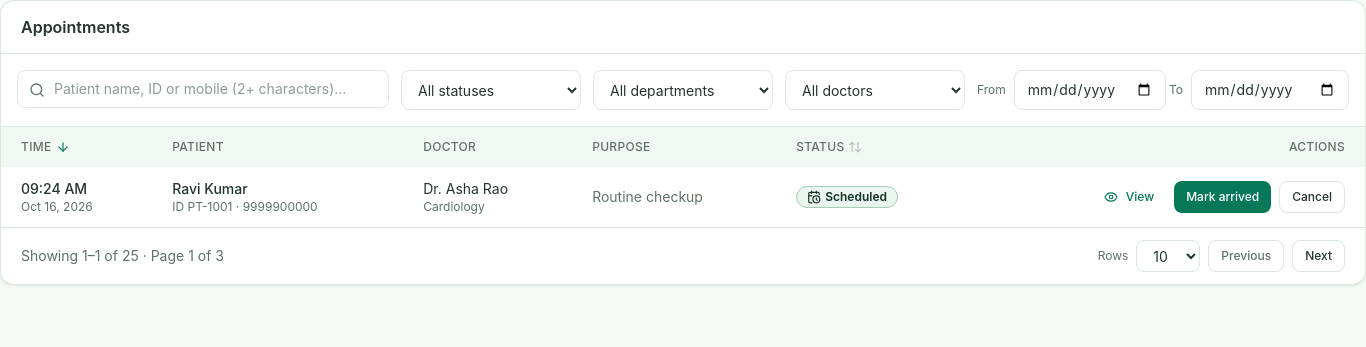
Test case: AppointmentList: server-side query › does not query with an end date before the start date
Expected: the text "Ravi Kumar" is shown, [172, 180, 248, 197]
Type "2026-10-20" into the date field labelled "From" at (1090, 90), box [1014, 70, 1166, 110]
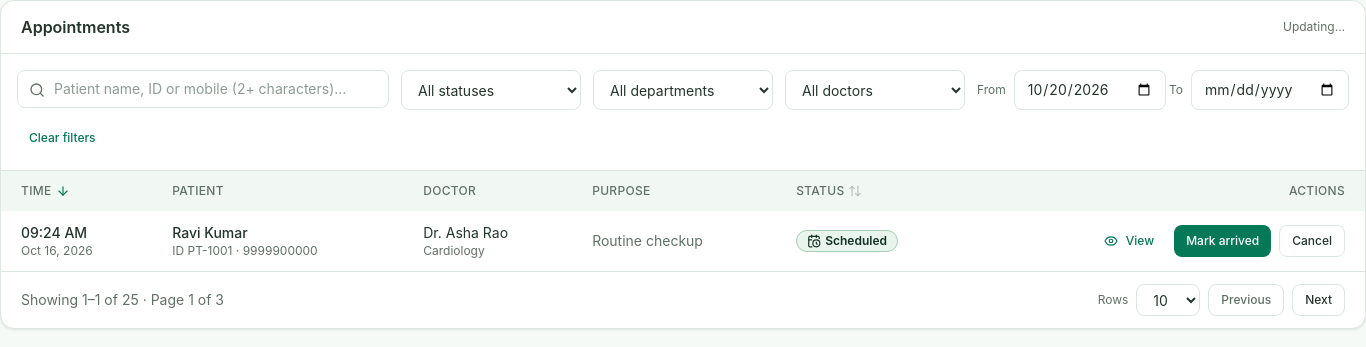
Type "2026-10-10" into the date field labelled "To" at (1270, 90), box [1191, 70, 1349, 110]
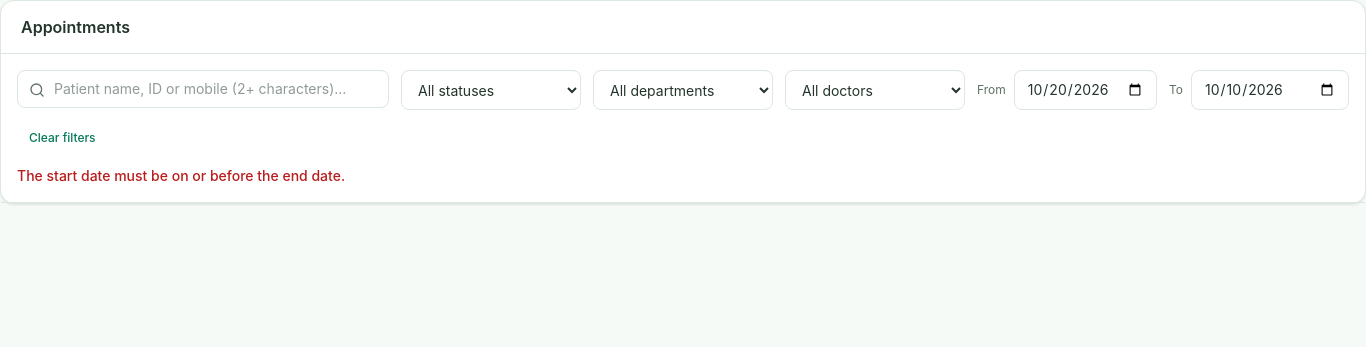
Expected: the message shows "start date must be on or before the end date", [17, 167, 345, 184]
